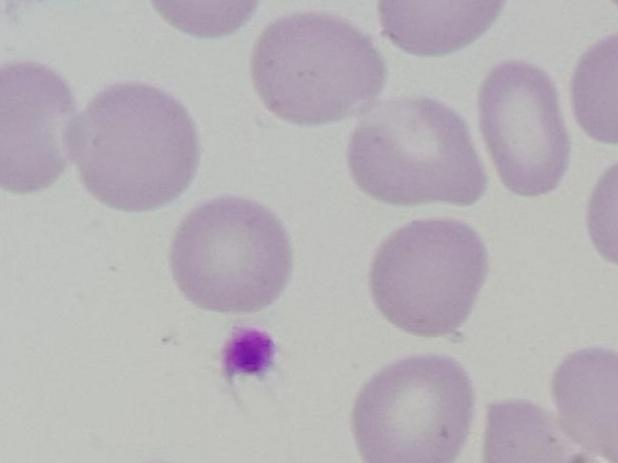Uninfected: (74, 81, 195, 212), (348, 97, 482, 209), (254, 15, 386, 125), (371, 217, 488, 339), (174, 195, 291, 313), (352, 352, 474, 463), (481, 59, 570, 195), (0, 64, 75, 193), (554, 348, 618, 463), (378, 0, 500, 53)
